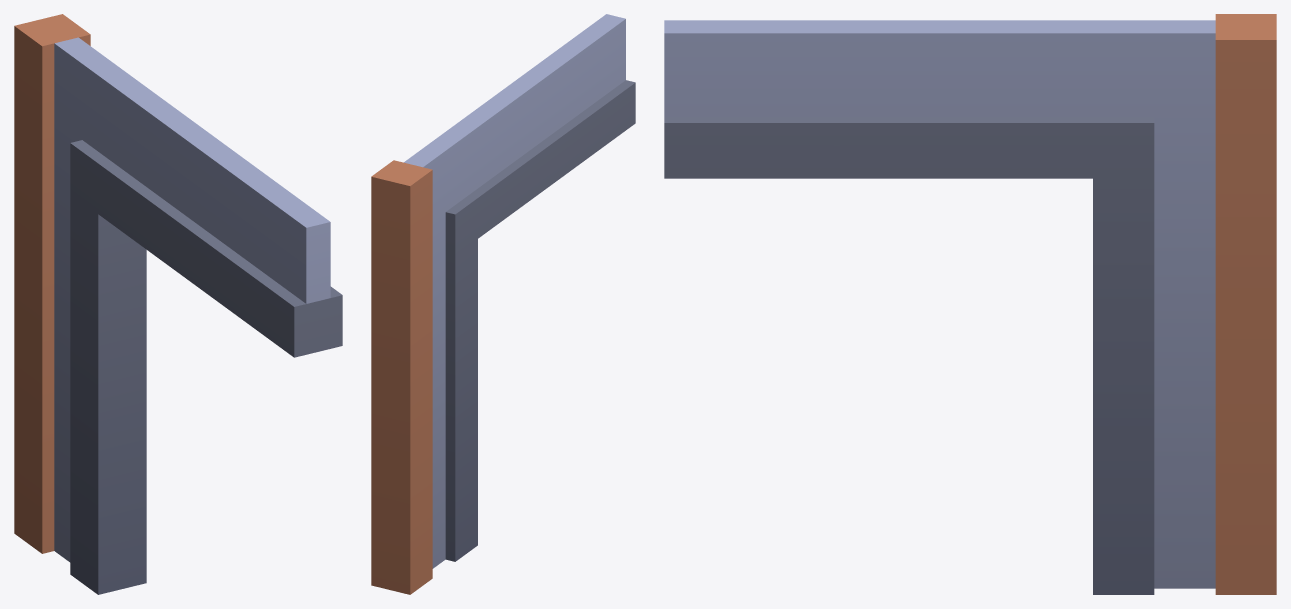
File: gate-kn-wall-doorway-square-wide.glb
3 views of the same model, side by side, from view 1: azimuth 30°, elevation 25°; view 2: azimuth 150°, elevation 25°; view 3: azimuth 270°, elevation 25° (orthographic). The views are drawn at different scales.
Visible parts, largest first — view 1: wall-doorway-square-wide; view 2: wall-doorway-square-wide; view 3: wall-doorway-square-wide.
Part boxes in pixels (x1,y1,x2,y2): wall-doorway-square-wide: (14, 14, 342, 594); wall-doorway-square-wide: (371, 14, 635, 594); wall-doorway-square-wide: (664, 14, 1276, 594).
Size of the model in its own units: 0.3 by 3 by 3.
1 material, 1 textured.
